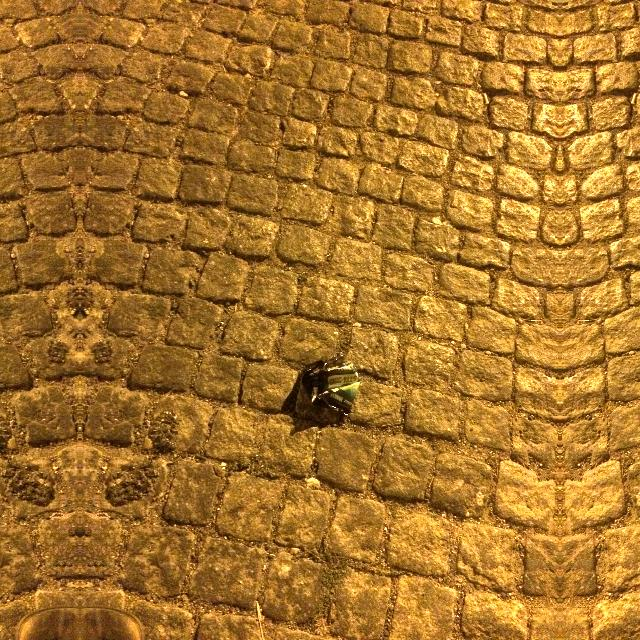Plastic: (291, 350, 364, 426)
